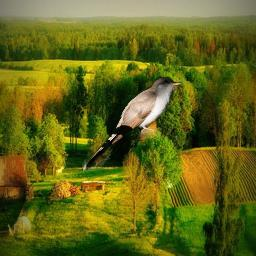Cuckoo: (82, 77, 184, 171)
